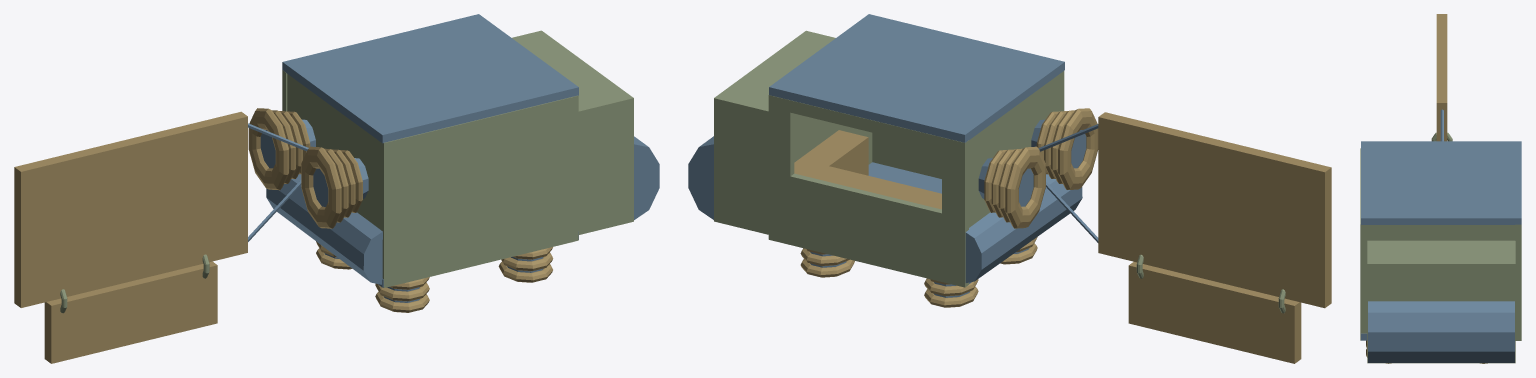
File: food_truck_v9.fbx
The picture shows the model from 3 angles, left to right: view 1: azimuth 30°, elevation 25°; view 2: azimuth 150°, elevation 25°; view 3: azimuth 270°, elevation 25°; orthographic projection. The views are drawn at different scales.
Parts seen in each view (by area): view 1: truck_sign_large, wall_B, roof, truck_sign_small, cab, wall_L, backbumper, tire_bot_2 (×2), tire_bot_1 (×3), tire_mid_1 (×3), frontbumper, wheel_well_1 (×2) (+1 smaller); view 2: truck_sign_large, roof, wall_F, truck_sign_small, cab, wall_L, tire_bot_2 (×2), backbumper, counter_R, wall_B, counter_M, tire_bot_1 (×3) (+5 smaller); view 3: roof, cab, frontbumper, wall_R, truck_sign_large, wall_F.
Part boxes in pixels (bbox=[...]): truck_sign_large: bbox=[14, 111, 247, 307]; wall_B: bbox=[389, 97, 573, 286]; roof: bbox=[282, 14, 578, 143]; truck_sign_small: bbox=[44, 261, 217, 363]; cab: bbox=[512, 30, 633, 234]; wall_L: bbox=[287, 74, 389, 287]; backbumper: bbox=[266, 174, 382, 284]; tire_bot_2 (×2): bbox=[248, 108, 341, 228]; tire_bot_1 (×3): bbox=[324, 148, 552, 312]; tire_mid_1 (×3): bbox=[331, 149, 553, 301]; frontbumper: bbox=[634, 136, 659, 219]; wheel_well_1 (×2): bbox=[260, 119, 368, 206]; truck_sign_large: bbox=[1098, 112, 1331, 308]; roof: bbox=[769, 14, 1064, 142]; wall_F: bbox=[768, 95, 968, 287]; truck_sign_small: bbox=[1128, 262, 1301, 363]; cab: bbox=[714, 30, 835, 234]; wall_L: bbox=[969, 71, 1064, 227]; tire_bot_2 (×2): bbox=[1005, 108, 1098, 228]; backbumper: bbox=[965, 174, 1082, 282]; counter_R: bbox=[794, 130, 868, 177]; wall_B: bbox=[872, 132, 941, 178]; counter_M: bbox=[813, 166, 941, 207]; tire_bot_1 (×3): bbox=[800, 148, 1022, 307]; roof: bbox=[1361, 141, 1521, 224]; cab: bbox=[1367, 240, 1515, 363]; frontbumper: bbox=[1368, 301, 1514, 362]; wall_R: bbox=[1360, 222, 1515, 340]; truck_sign_large: bbox=[1436, 14, 1447, 141]; wall_F: bbox=[1515, 224, 1521, 340].
Bounding box in the file's own units: 11.29 × 3.61 × 3.31.
